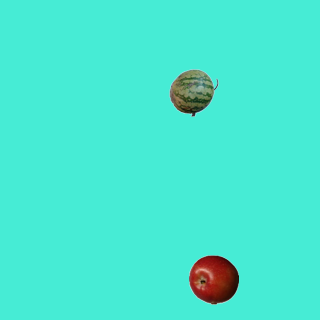Apple Braeburn: (188, 254, 238, 304)
Watermelon: (168, 67, 218, 117)
